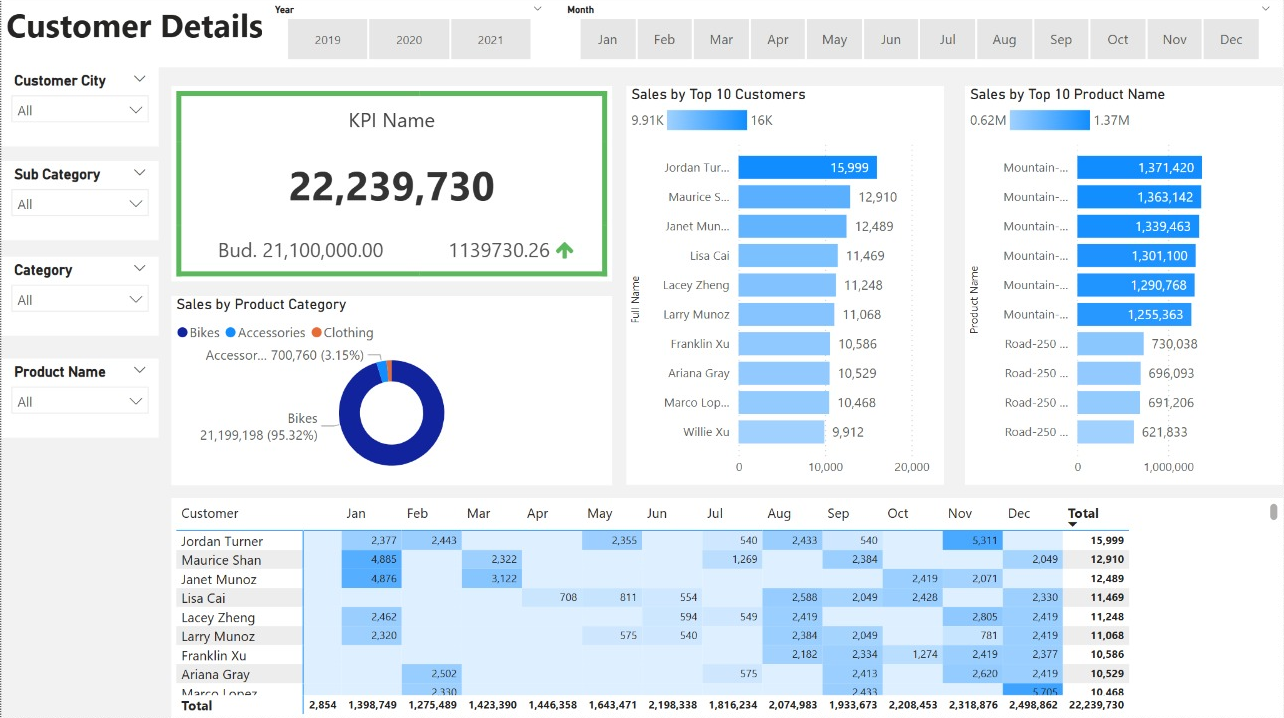

Layout of this report page (visuals, bound fields, positions):
{"tool":"powerbi","page":{"name":"Customer Details","canvas":[1280,720],"ordinal":1},"visuals":[{"type":"textbox","box":[0,0,1279.4,69.8],"z":0},{"type":"slicer","fields":{"Values":["DIM_Customers.Customer City"]},"box":[0,69.8,157.1,79.4],"z":1000},{"type":"slicer","fields":{"Values":["DIM_Products.Sub Category"]},"box":[0,163.5,157.1,79.4],"z":2000},{"type":"slicer","fields":{"Values":["DIM_Products.Product Category"]},"box":[0,258.7,157.1,79.4],"z":3000},{"type":"slicer","fields":{"Values":["DIM_Products.Product Name"]},"box":[0,360.3,157.1,79.4],"z":4000},{"type":"slicer","fields":{"Values":["DIM_Calendar.Date.Variation.Date Hierarchy.Year"]},"box":[260.3,1.6,292.1,66.7],"z":5000},{"type":"slicer","fields":{"Values":["DIM_Calendar.MonthShort"]},"box":[552.4,1.6,727,66.7],"z":6000},{"type":"BBED0A4D4D8D44CE93CF2DAFADEE466C","fields":{"actual":["FACT_InternetSales.Sales"],"target1":["Key Measures.Budget Amount"],"target2":["Key Measures.Sales - Budget"]},"box":[169.8,88.9,439.7,195.2],"z":7000},{"type":"donutChart","fields":{"Category":["DIM_Products.Product Category"],"Y":["Key Measures.Sales"]},"box":[169.8,298.4,439.7,188.9],"z":8000},{"type":"barChart","title":"Sales by Top 10 Customers","fields":{"Y":["Key Measures.Sales"],"Category":["DIM_Customers.Full Name"]},"box":[623.8,88.9,317.5,398.4],"z":10000},{"type":"barChart","title":"Sales by Top 10 Product Name","fields":{"Y":["Key Measures.Sales"],"Category":["DIM_Products.Product Name"]},"box":[961.9,88.9,317.5,398.4],"z":11000},{"type":"pivotTable","fields":{"Rows":["DIM_Customers.Full Name"],"Values":["Key Measures.Sales"],"Columns":["DIM_Calendar.MonthShort"]},"box":[169.8,500,1109.5,220.6],"z":11001}]}

Visuals, with their boxes in screenshot pixels (x1, y1, x2, y2), scaled from the page's 1280x720 canvas onto the 1284x718 screenshot:
textbox: bbox=(0, 0, 1283, 70)
slicer - DIM_Customers.Customer City: bbox=(0, 70, 158, 149)
slicer - DIM_Products.Sub Category: bbox=(0, 163, 158, 242)
slicer - DIM_Products.Product Category: bbox=(0, 258, 158, 337)
slicer - DIM_Products.Product Name: bbox=(0, 359, 158, 438)
slicer - DIM_Calendar.Date.Variation.Date Hierarchy.Year: bbox=(261, 2, 554, 68)
slicer - DIM_Calendar.MonthShort: bbox=(554, 2, 1283, 68)
BBED0A4D4D8D44CE93CF2DAFADEE466C - FACT_InternetSales.Sales x Key Measures.Budget Amount: bbox=(170, 89, 611, 283)
donutChart - DIM_Products.Product Category x Key Measures.Sales: bbox=(170, 298, 611, 486)
"Sales by Top 10 Customers" barChart: bbox=(626, 89, 944, 486)
"Sales by Top 10 Product Name" barChart: bbox=(965, 89, 1283, 486)
pivotTable - DIM_Customers.Full Name x Key Measures.Sales: bbox=(170, 499, 1283, 717)
